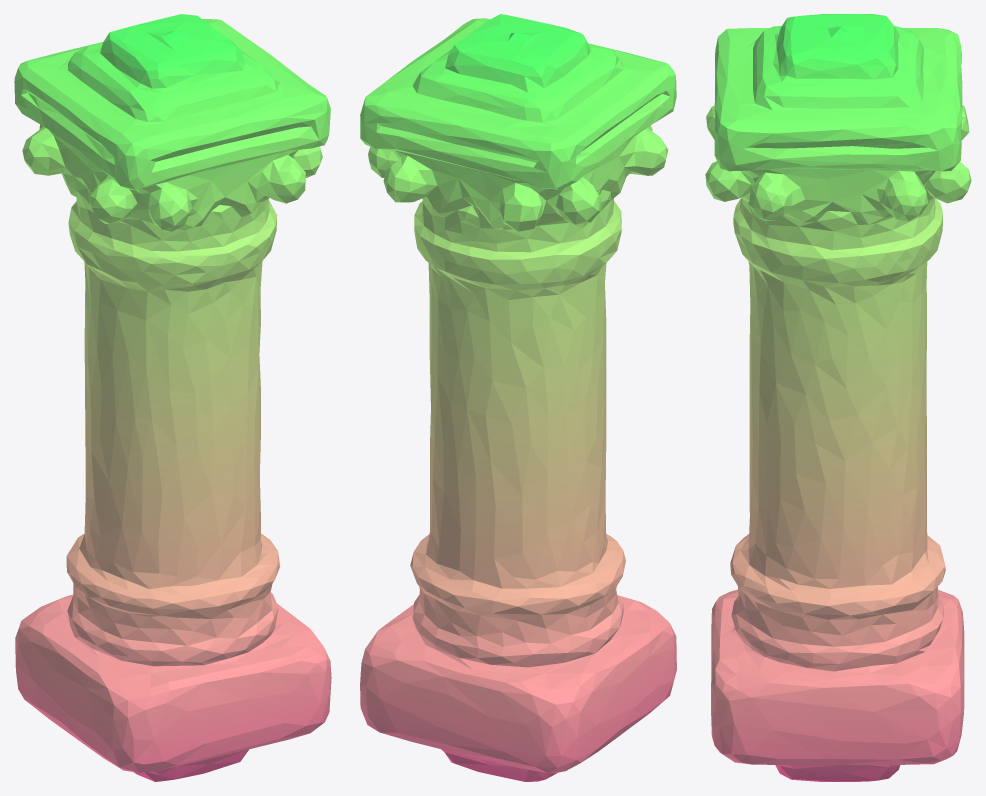
Rendered from 151_cyb_laser_gradient_fish_scales_2840_2026_10_03_31c4c2.glb.
3 renders of one model, left to right at view 1: azimuth 30°, elevation 25°; view 2: azimuth 150°, elevation 25°; view 3: azimuth 270°, elevation 25°, orthographic.
Parts seen in each view (by area): view 1: geometry_0; view 2: geometry_0; view 3: geometry_0.
Part boxes in pixels (x1,y1,x2,y2): geometry_0: (14, 14, 331, 781); geometry_0: (360, 14, 676, 781); geometry_0: (705, 14, 971, 781).
Bounding box in the file's own units: 0.3275 × 0.9957 × 0.3265.
